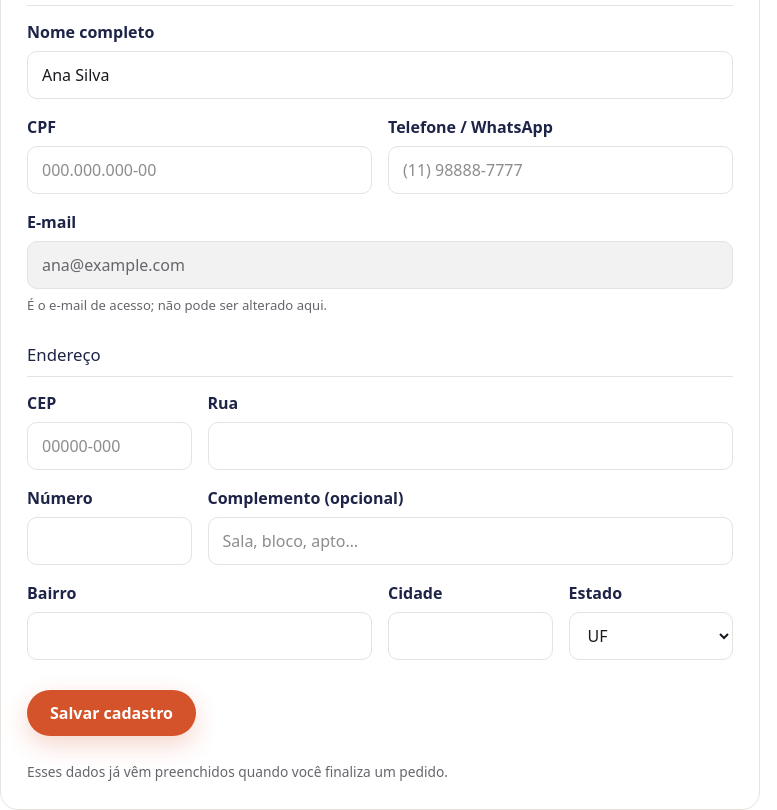
it: cadastro completo na Minha conta › mostra o erro embaixo de cada campo que o servidor recusar
The width and height of the screenshot is (777, 810).
(page scrolled)
What coordinates should you click on to do the following:
click the button "Salvar cadastro"
I would click on:
 (112, 713)
Its box is [27,690,196,736].
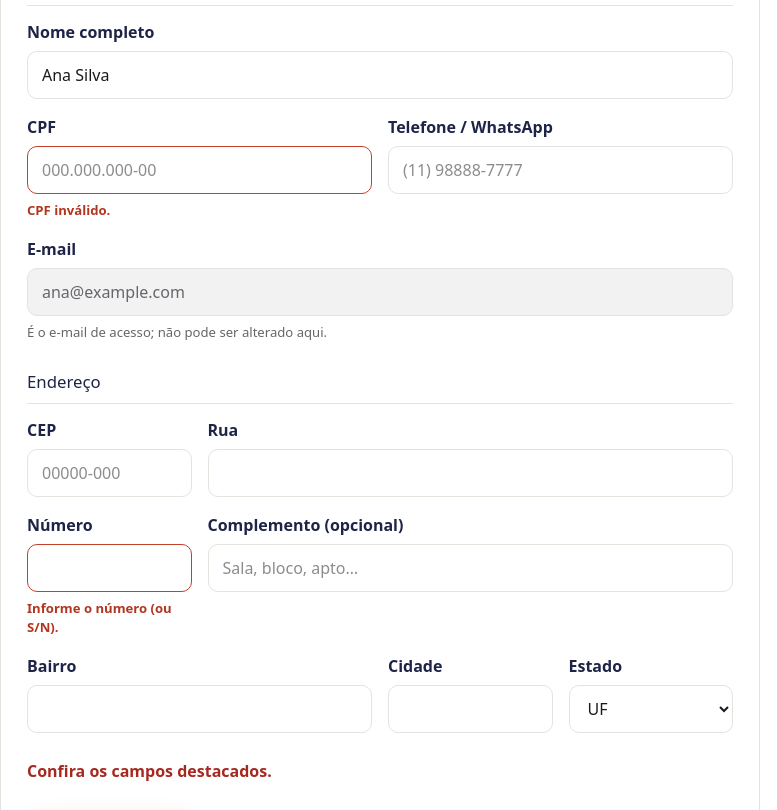
Expected: the text "Confira os campos destacados." is shown, [27,760,272,782]
